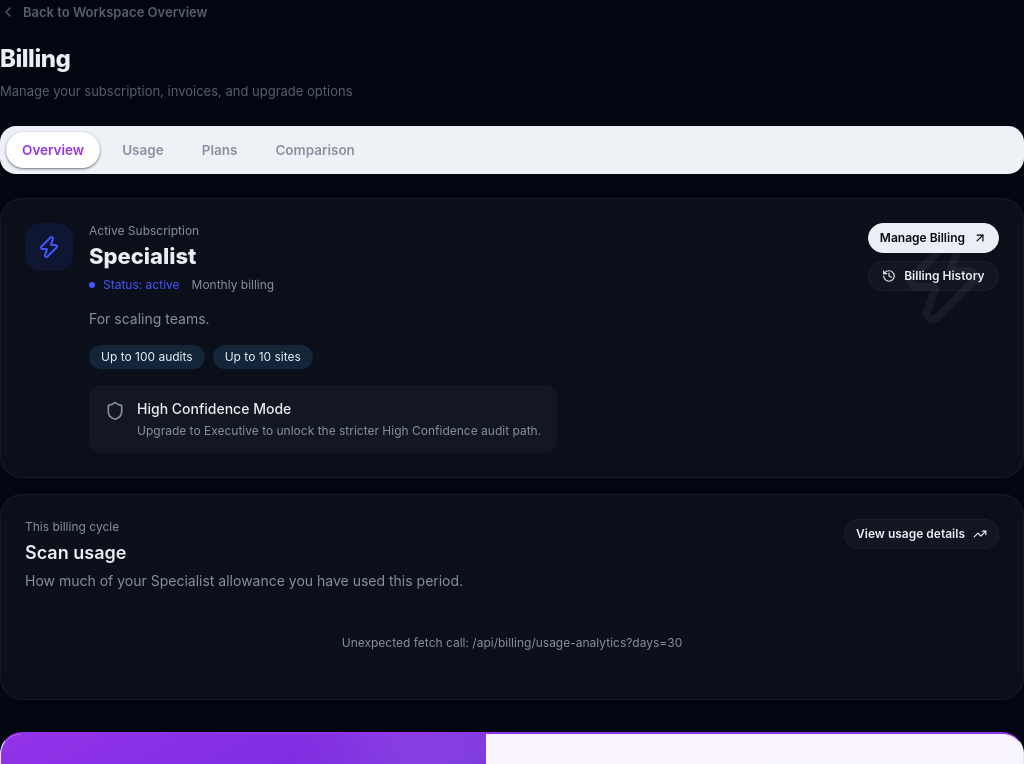
Test: BillingPage › the Executive card (SIGV2-1211) › states no per-audit unit price when there is no price to divide
expect the text "Active Subscription" is shown: met, box x1=89 y1=222 x2=199 y2=238
Step 1. Click the tab "Plans" → (220, 150), box x1=186 y1=132 x2=253 y2=168
(page scrolled)
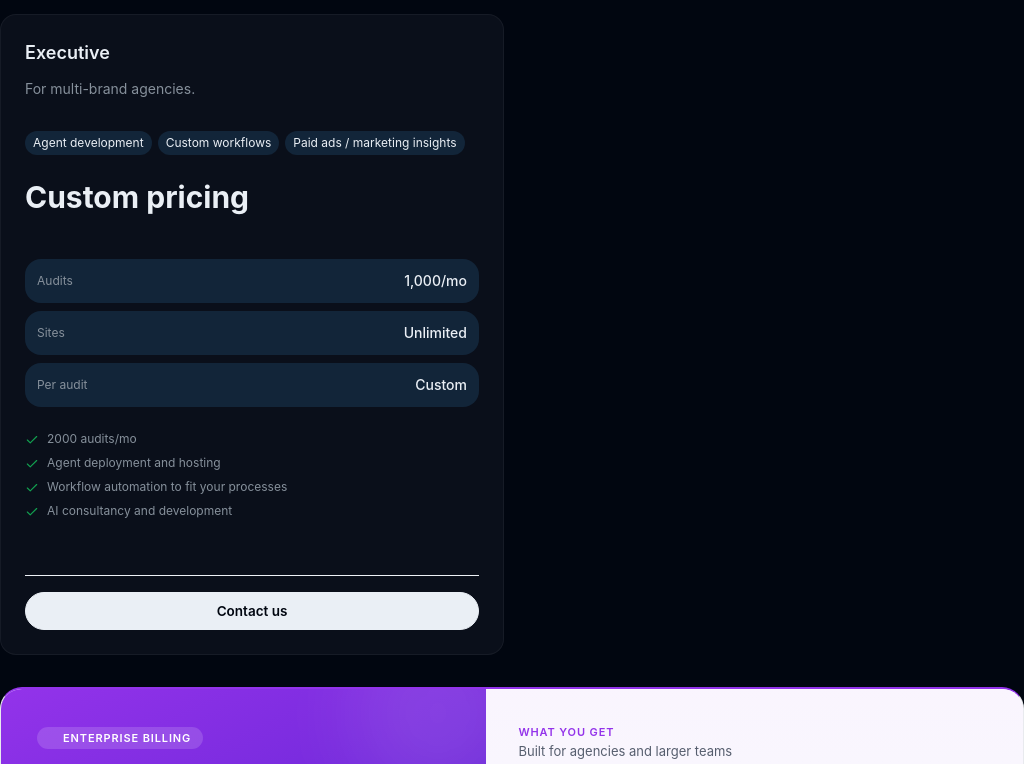
expect the text "Per audit" is shown: met, box x1=37 y1=376 x2=88 y2=392
expect the text "Custom" is shown: met, box x1=415 y1=374 x2=467 y2=394
